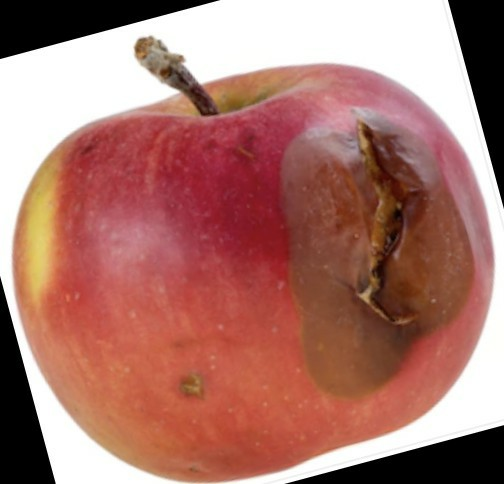rotten_apple: (15, 64, 497, 480)
